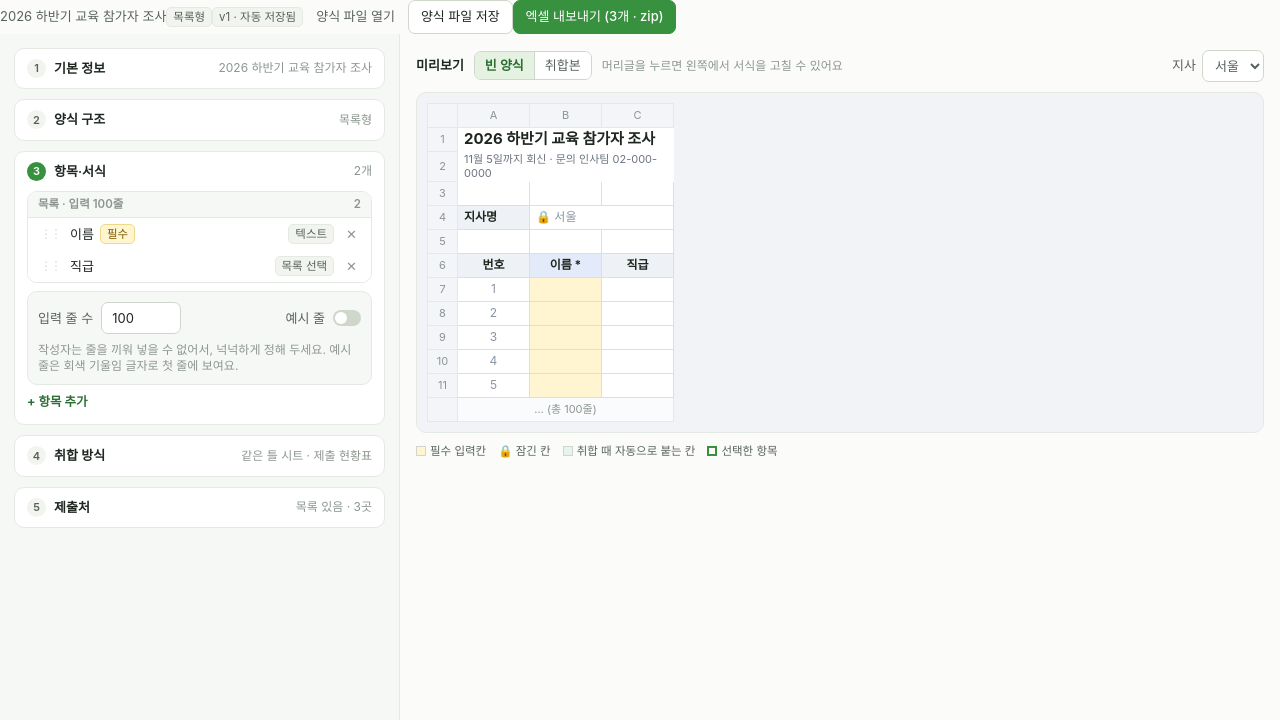
기한이 없으면 ① 일정 정보부터: 빠른 버튼으로 고르면 ② 확인에 그 기한
Click the button "엑셀 내보내기 (3개 · zip)": (595, 17) [513,0,676,34]
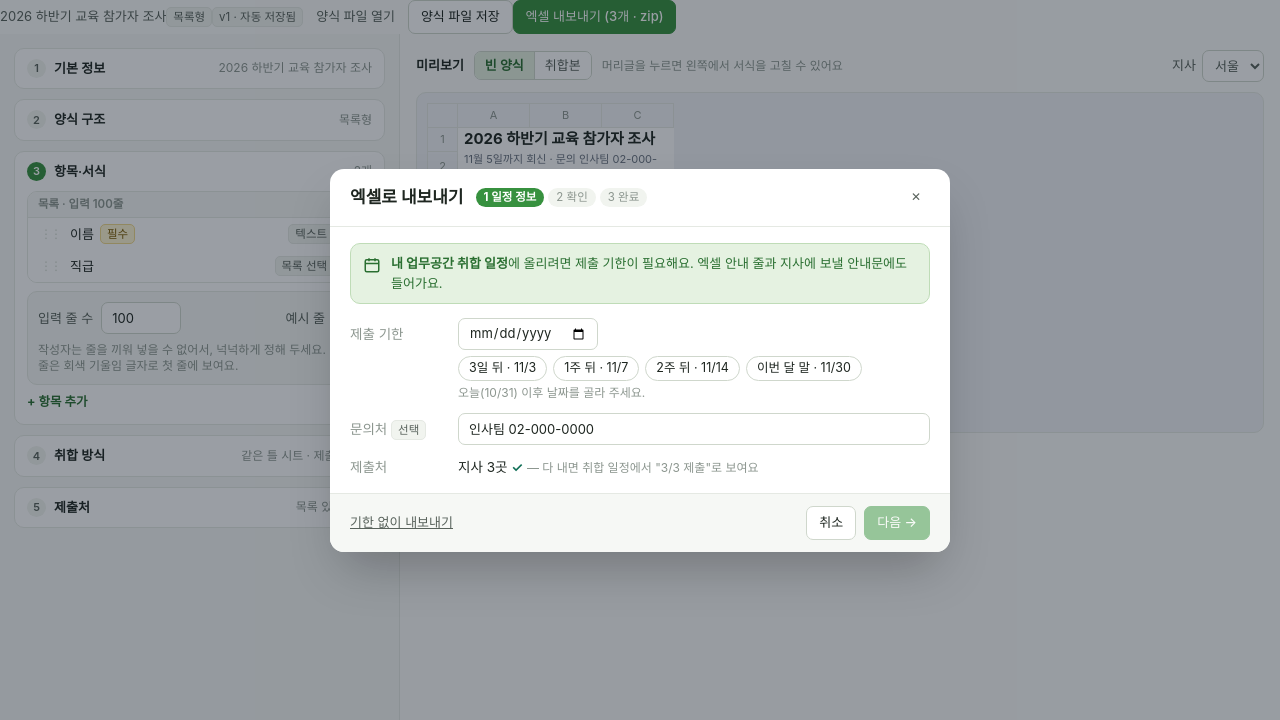
Result: the text "내 업무공간 취합 일정에 올리려면 제출 기한이 필요해요. 엑셀 안내 줄과 지사에 보낼 안내문에도 들어가요." is shown at [391,254,917,293]
Result: the button "다음 →" is disabled at [864,506,930,540]
Click the button "1주 뒤 · 11/7": (596, 368) [553,356,639,381]
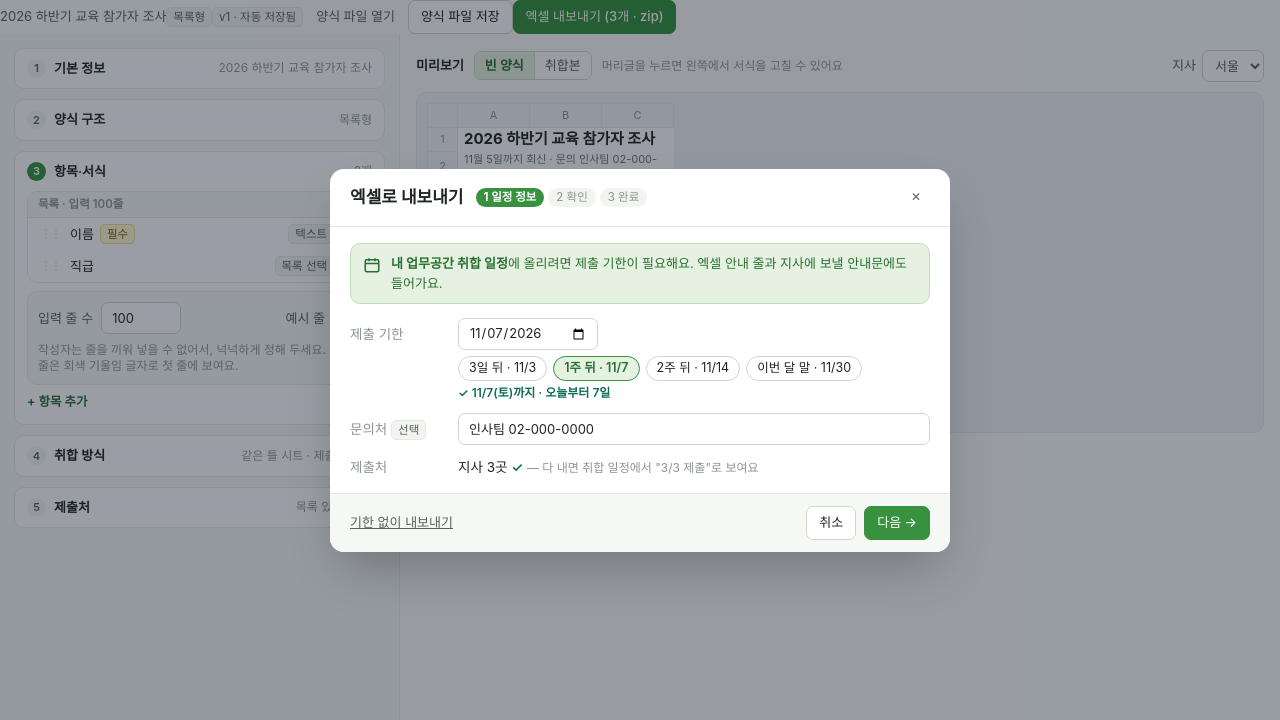
Result: the button "다음 →" is enabled
Click the button "다음 →": (897, 523) [864,506,930,540]
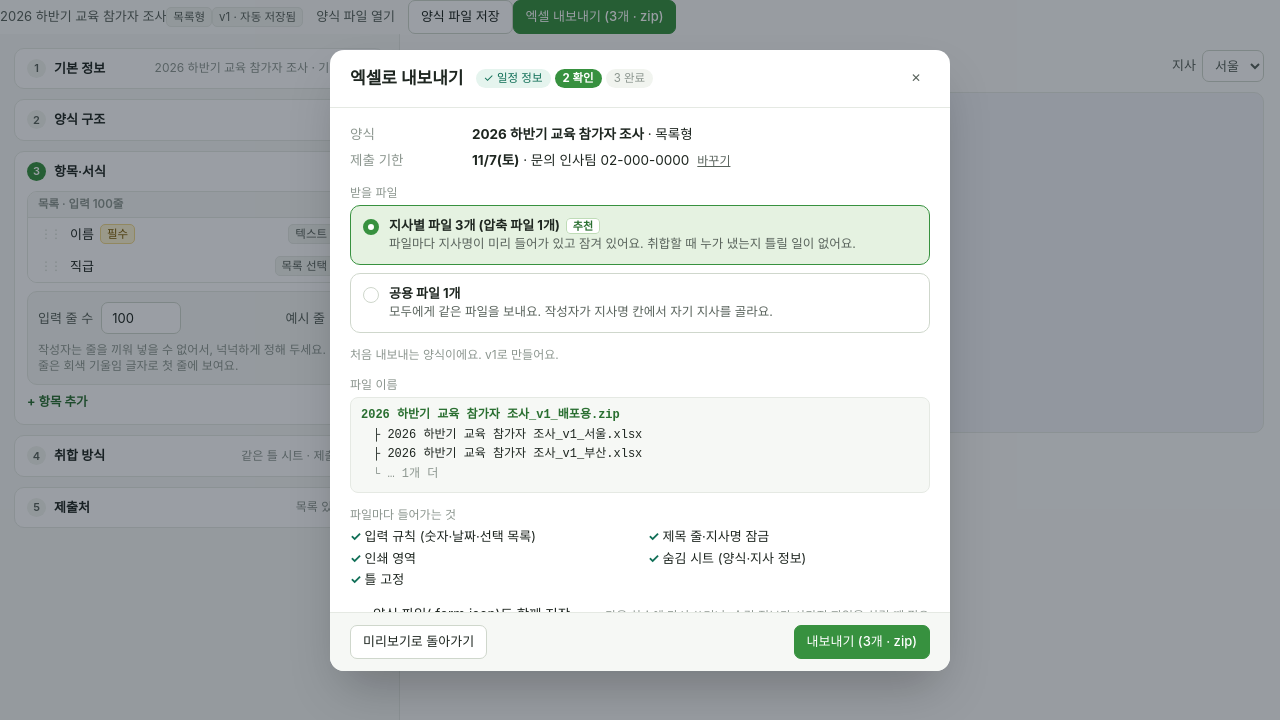
Result: the text "11/7(토)" is shown at [472,152,519,168]
Result: the button "내보내기 (3개 · zip)" is shown at [794,625,930,658]
